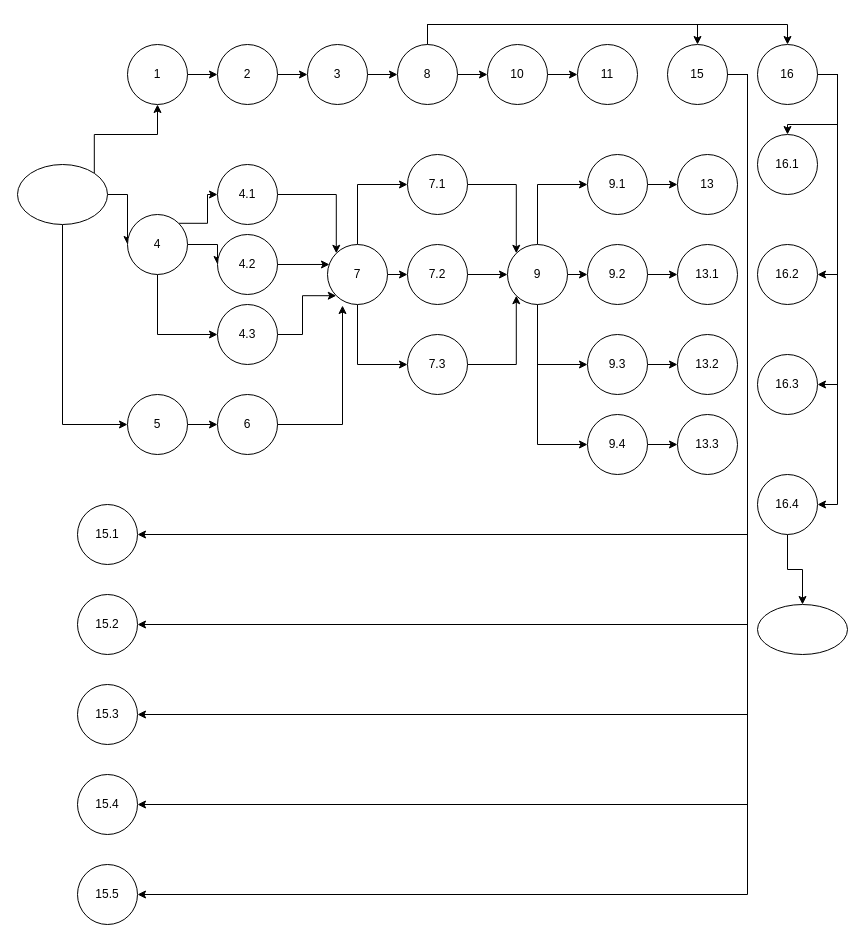
This 865x942 diagram has some shape labels left out. Here are the shapes that lost their labels. From the top down, the box of each, then its label:
(16, 164, 108, 224): Inizio
(756, 604, 848, 654): Fine
